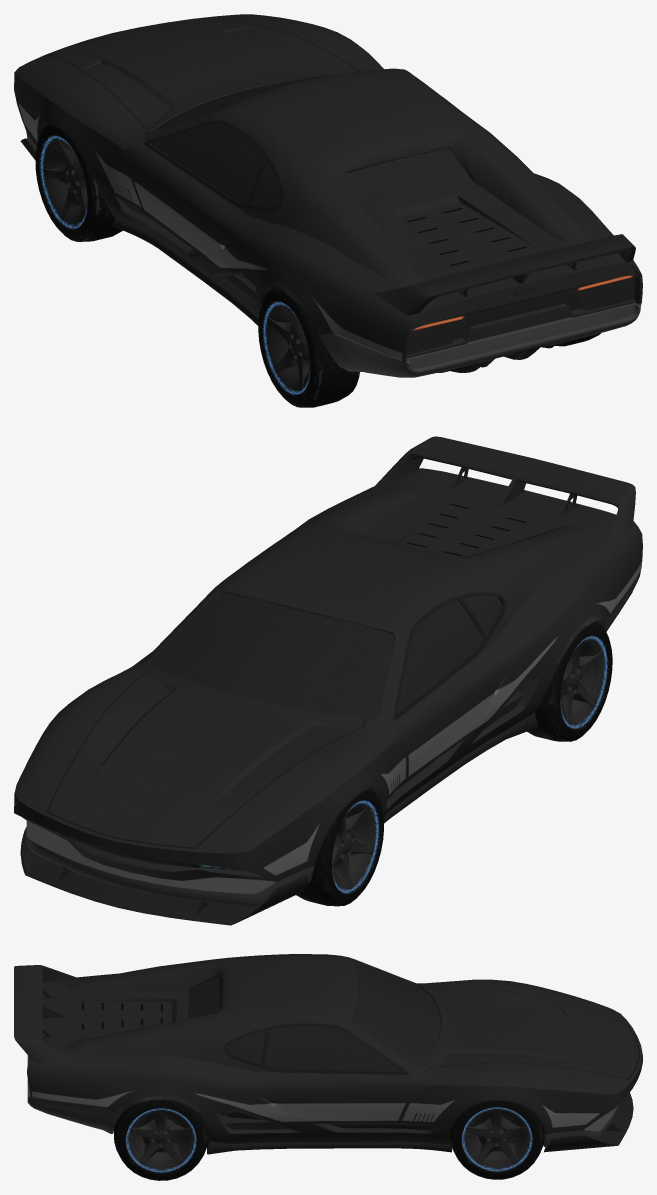
File: cyberpunk_car-transformed.glb
The picture shows the model from 3 angles, top to bottom: view 1: azimuth 30°, elevation 25°; view 2: azimuth 150°, elevation 25°; view 3: azimuth 270°, elevation 25°; orthographic projection. The views are drawn at different scales.
Visible parts, largest first — view 1: cb_car_export; view 2: cb_car_export; view 3: cb_car_export.
Part boxes in pixels (x1,y1,x2,y2): cb_car_export: (14, 14, 642, 407); cb_car_export: (14, 436, 642, 925); cb_car_export: (14, 954, 642, 1180).
Size of the model in its own units: 223 by 141 by 541.
Materials: 1 (1 with a texture image).
